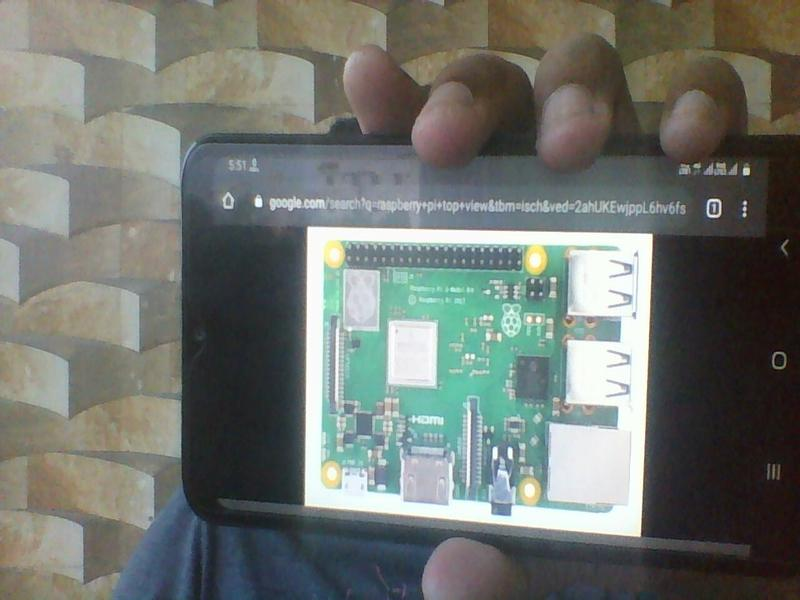aud: (487, 440, 518, 520)
eth: (546, 421, 633, 505)
usb: (563, 246, 641, 319), (561, 337, 635, 404)
